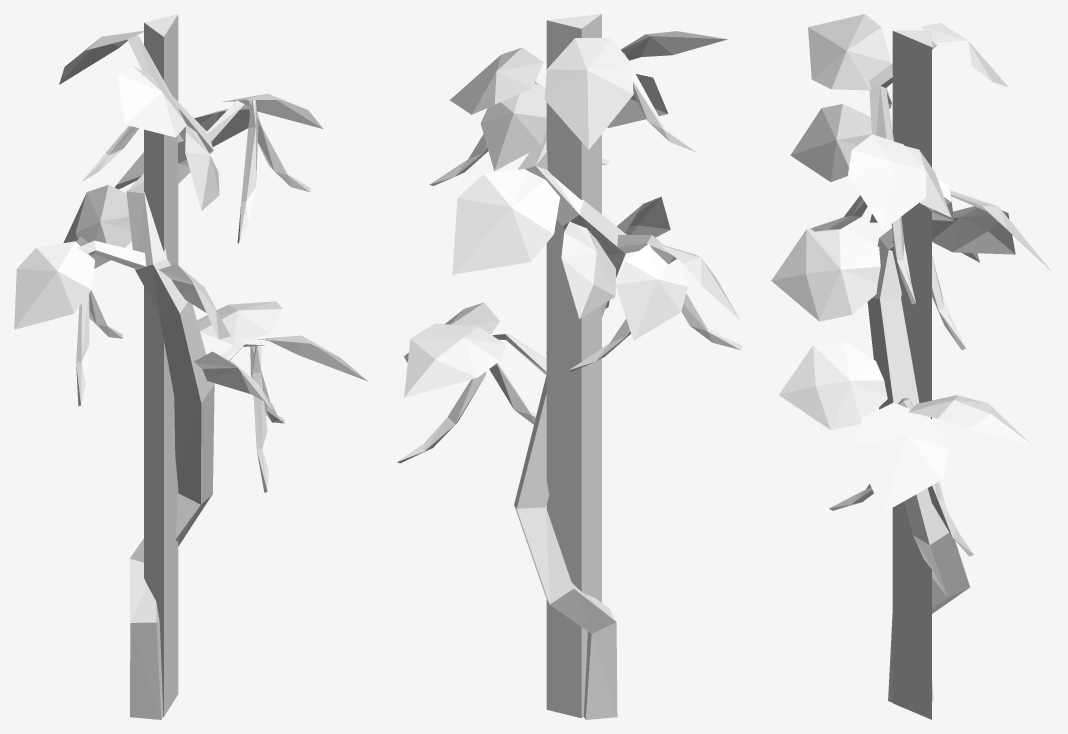
Rendered from Crop_Bean_STAGE_3_01.glb.
3 renders of one model, left to right at view 1: azimuth 30°, elevation 25°; view 2: azimuth 150°, elevation 25°; view 3: azimuth 270°, elevation 25°, orthographic. The views are drawn at different scales.
Parts seen in each view (by area): view 1: Crop_Bean_STAGE_3_01; view 2: Crop_Bean_STAGE_3_01; view 3: Crop_Bean_STAGE_3_01.
Part boxes in pixels (x1=…): Crop_Bean_STAGE_3_01: x1=14, y1=14, x2=367, y2=719; Crop_Bean_STAGE_3_01: x1=397, y1=14, x2=742, y2=719; Crop_Bean_STAGE_3_01: x1=771, y1=14, x2=1052, y2=719.
Size of the model in its own units: 0.605 by 1.15 by 0.436.
1 material, 1 textured.
